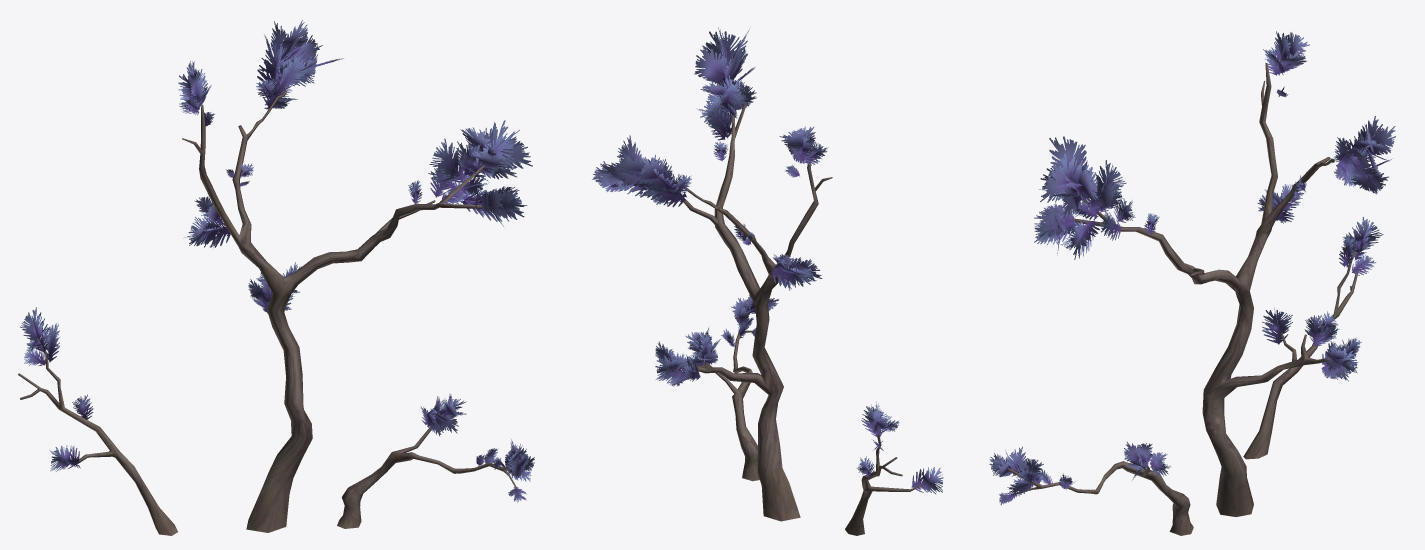
File: Homeworld_General_Common_Thing_Prop_Irodori_Bcackforward_01_Vo.fbx
3 renders of one model, left to right at view 1: azimuth 30°, elevation 25°; view 2: azimuth 150°, elevation 25°; view 3: azimuth 270°, elevation 25°, orthographic. The views are drawn at different scales.
Visible parts, largest first — view 1: Homeworld_General_Common_Thing_Prop_Irodori_Bcackforward_01_ (×2); view 2: Homeworld_General_Common_Thing_Prop_Irodori_Bcackforward_01_ (×2); view 3: Homeworld_General_Common_Thing_Prop_Irodori_Bcackforward_01_ (×2).
Boxes of the visible parts, x1,y1,x2,y2 form: Homeworld_General_Common_Thing_Prop_Irodori_Bcackforward_01_ (×2): (18, 20, 534, 535); Homeworld_General_Common_Thing_Prop_Irodori_Bcackforward_01_ (×2): (592, 27, 943, 535); Homeworld_General_Common_Thing_Prop_Irodori_Bcackforward_01_ (×2): (989, 31, 1395, 535).
Size of the model in its own units: 1.01 by 1.14 by 0.9471.
